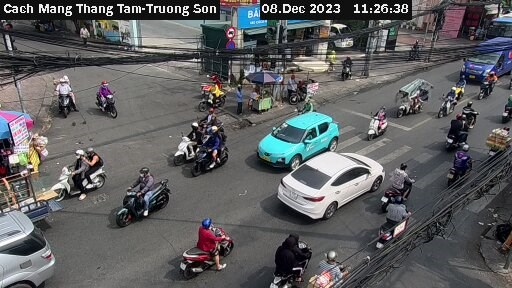bus: (489, 12, 512, 37)
car: (276, 150, 387, 216), (256, 105, 340, 166), (1, 210, 62, 288), (461, 34, 511, 81)
motorbike: (115, 164, 183, 230), (173, 216, 244, 276), (55, 140, 116, 202), (259, 235, 304, 288), (88, 71, 134, 121), (45, 66, 85, 115), (374, 203, 415, 249), (185, 139, 231, 178), (378, 173, 422, 208), (313, 249, 352, 288), (360, 103, 396, 144), (187, 110, 234, 138), (165, 124, 198, 160), (439, 146, 470, 176), (439, 117, 470, 146), (434, 87, 462, 116), (473, 72, 501, 101), (497, 96, 512, 121)
